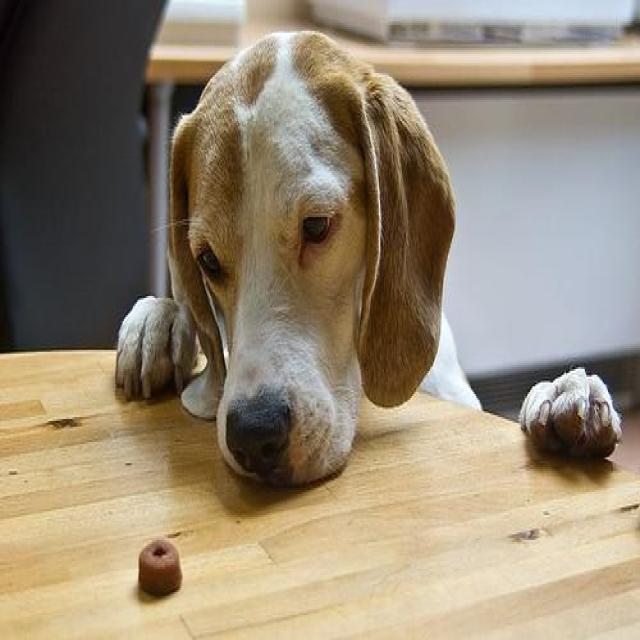beagle: (114, 31, 625, 488)
